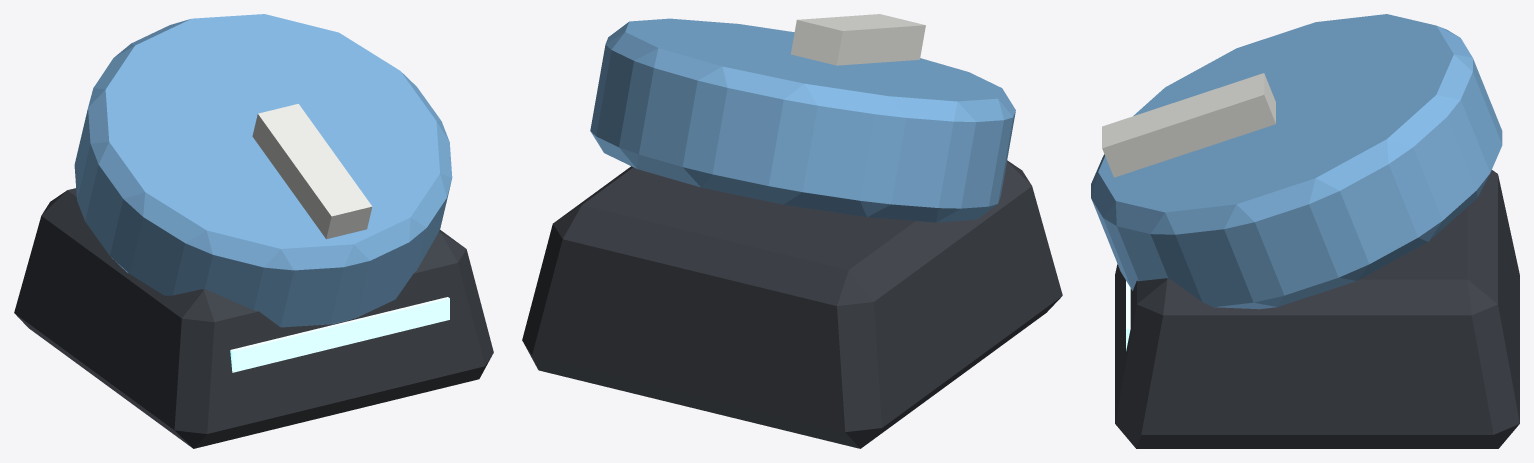
Rendered from headphones_m1_1.glb.
3 renders of one model, left to right at view 1: azimuth 30°, elevation 25°; view 2: azimuth 150°, elevation 25°; view 3: azimuth 270°, elevation 25°, orthographic. The views are drawn at different scales.
Parts seen in each view (by area): view 1: headphones_m1_1_mesh; view 2: headphones_m1_1_mesh; view 3: headphones_m1_1_mesh.
Boxes of the visible parts, <box> form: headphones_m1_1_mesh: <box>14,14,493,448</box>; headphones_m1_1_mesh: <box>522,14,1062,448</box>; headphones_m1_1_mesh: <box>1091,14,1519,448</box>.
Size of the model in its own units: 0.2347 by 0.2034 by 0.2486.
